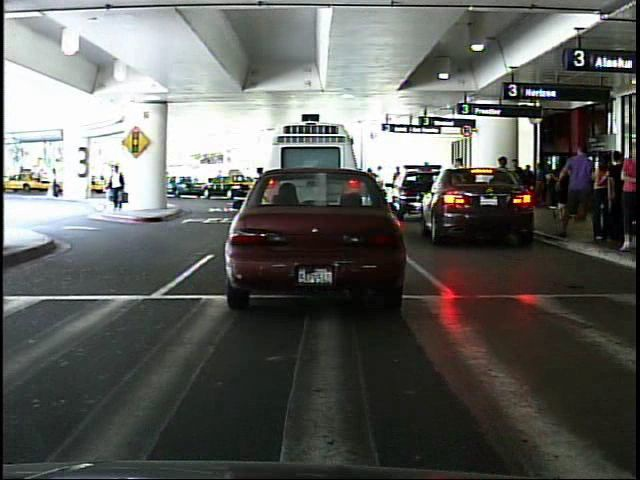person: (614, 140, 638, 255), (99, 157, 133, 213), (51, 164, 67, 203)
